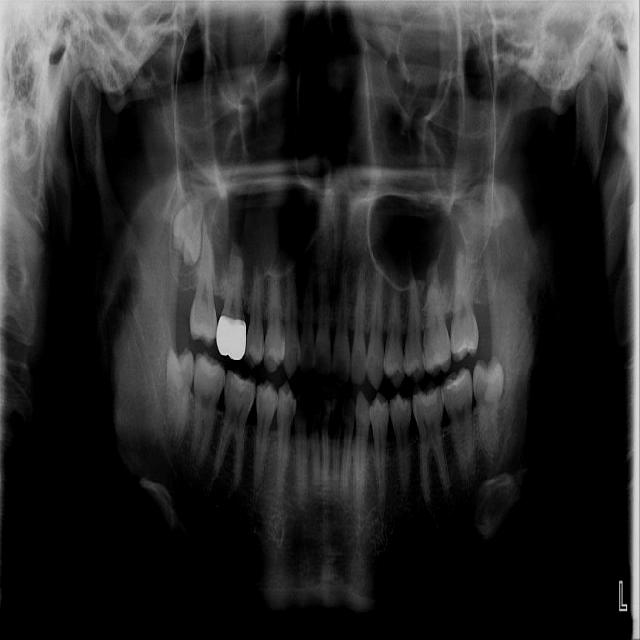Crown: (216, 315, 247, 361)
impacted tooth: (473, 358, 503, 467), (163, 349, 195, 451), (168, 183, 203, 263)
